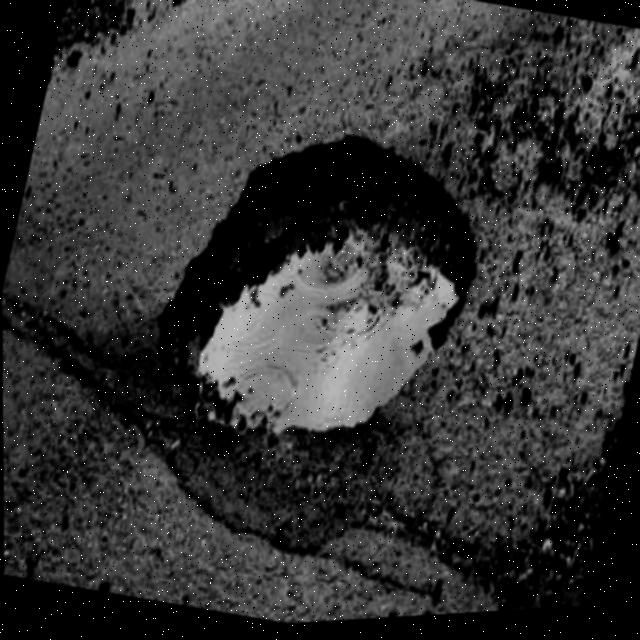Pothole: (128, 82, 510, 485)
